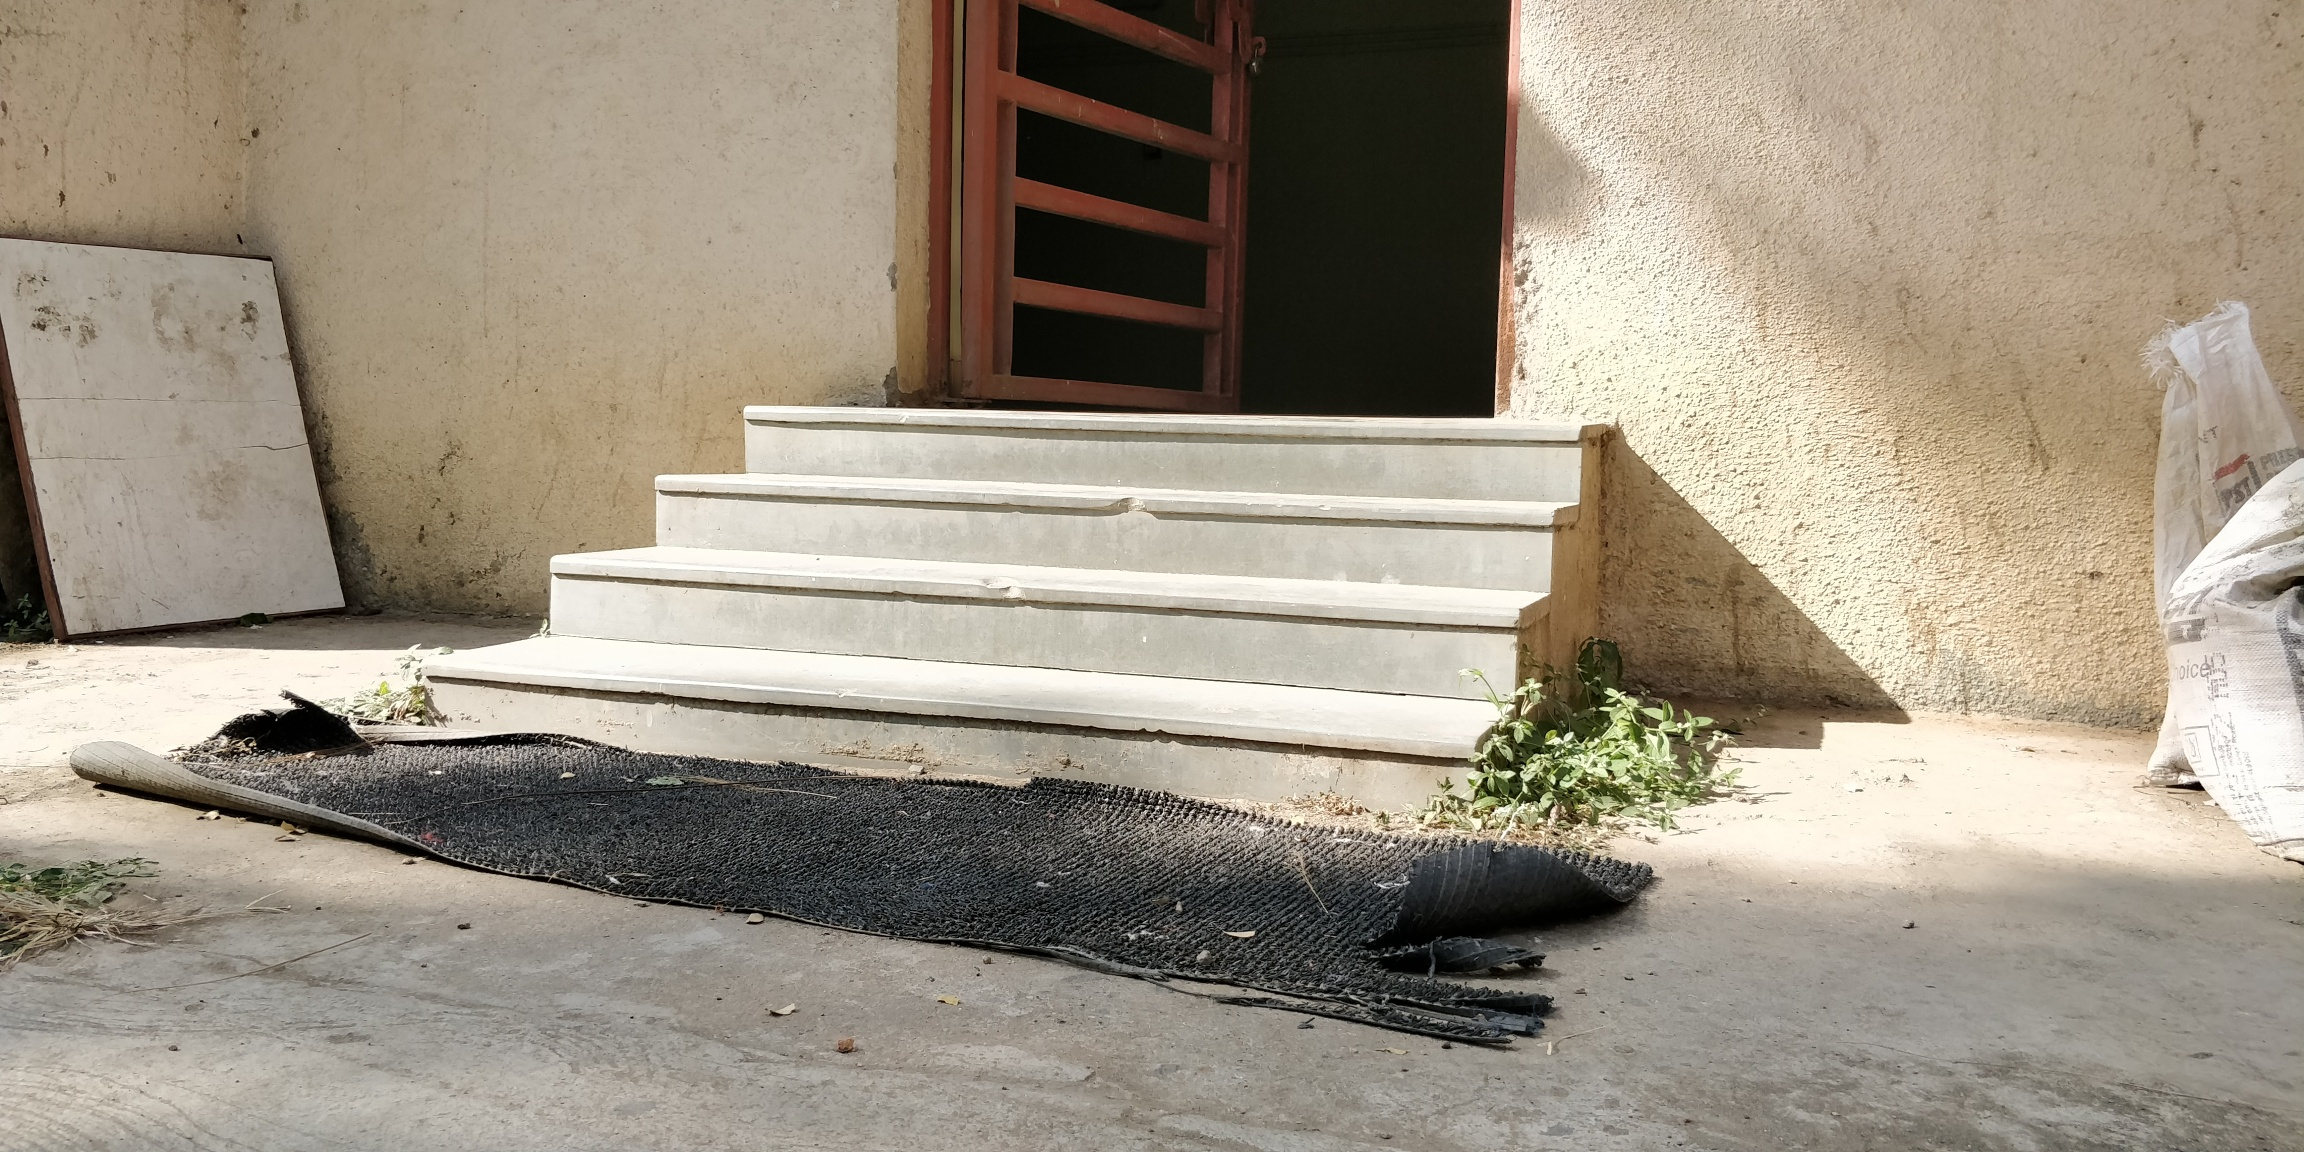stairs_up: (408, 385, 1627, 770)
